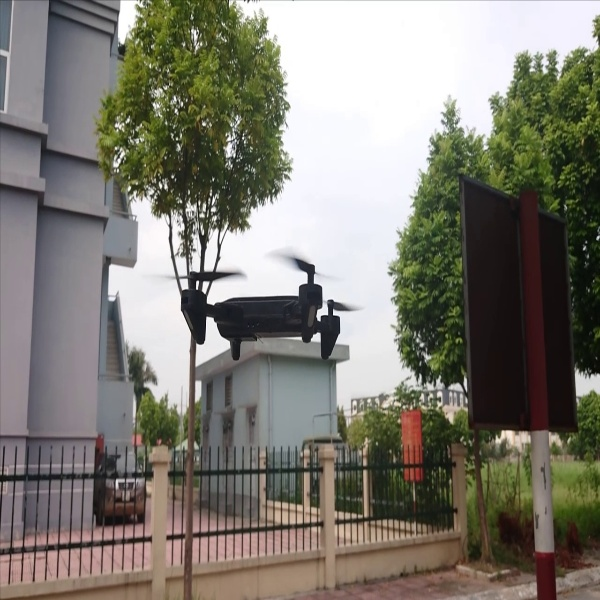drone: (155, 248, 371, 369)
